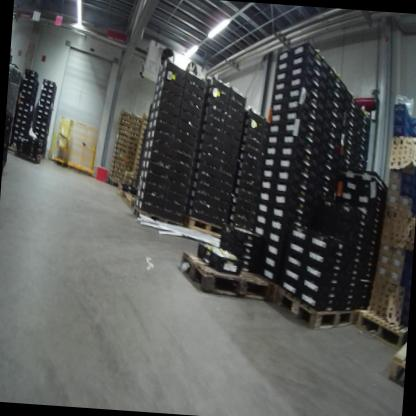pallet: (178, 250, 273, 309), (276, 284, 360, 334), (350, 299, 406, 347), (131, 205, 186, 233), (183, 212, 230, 241), (387, 347, 406, 391), (14, 146, 44, 164), (107, 174, 133, 191), (123, 194, 142, 212)
